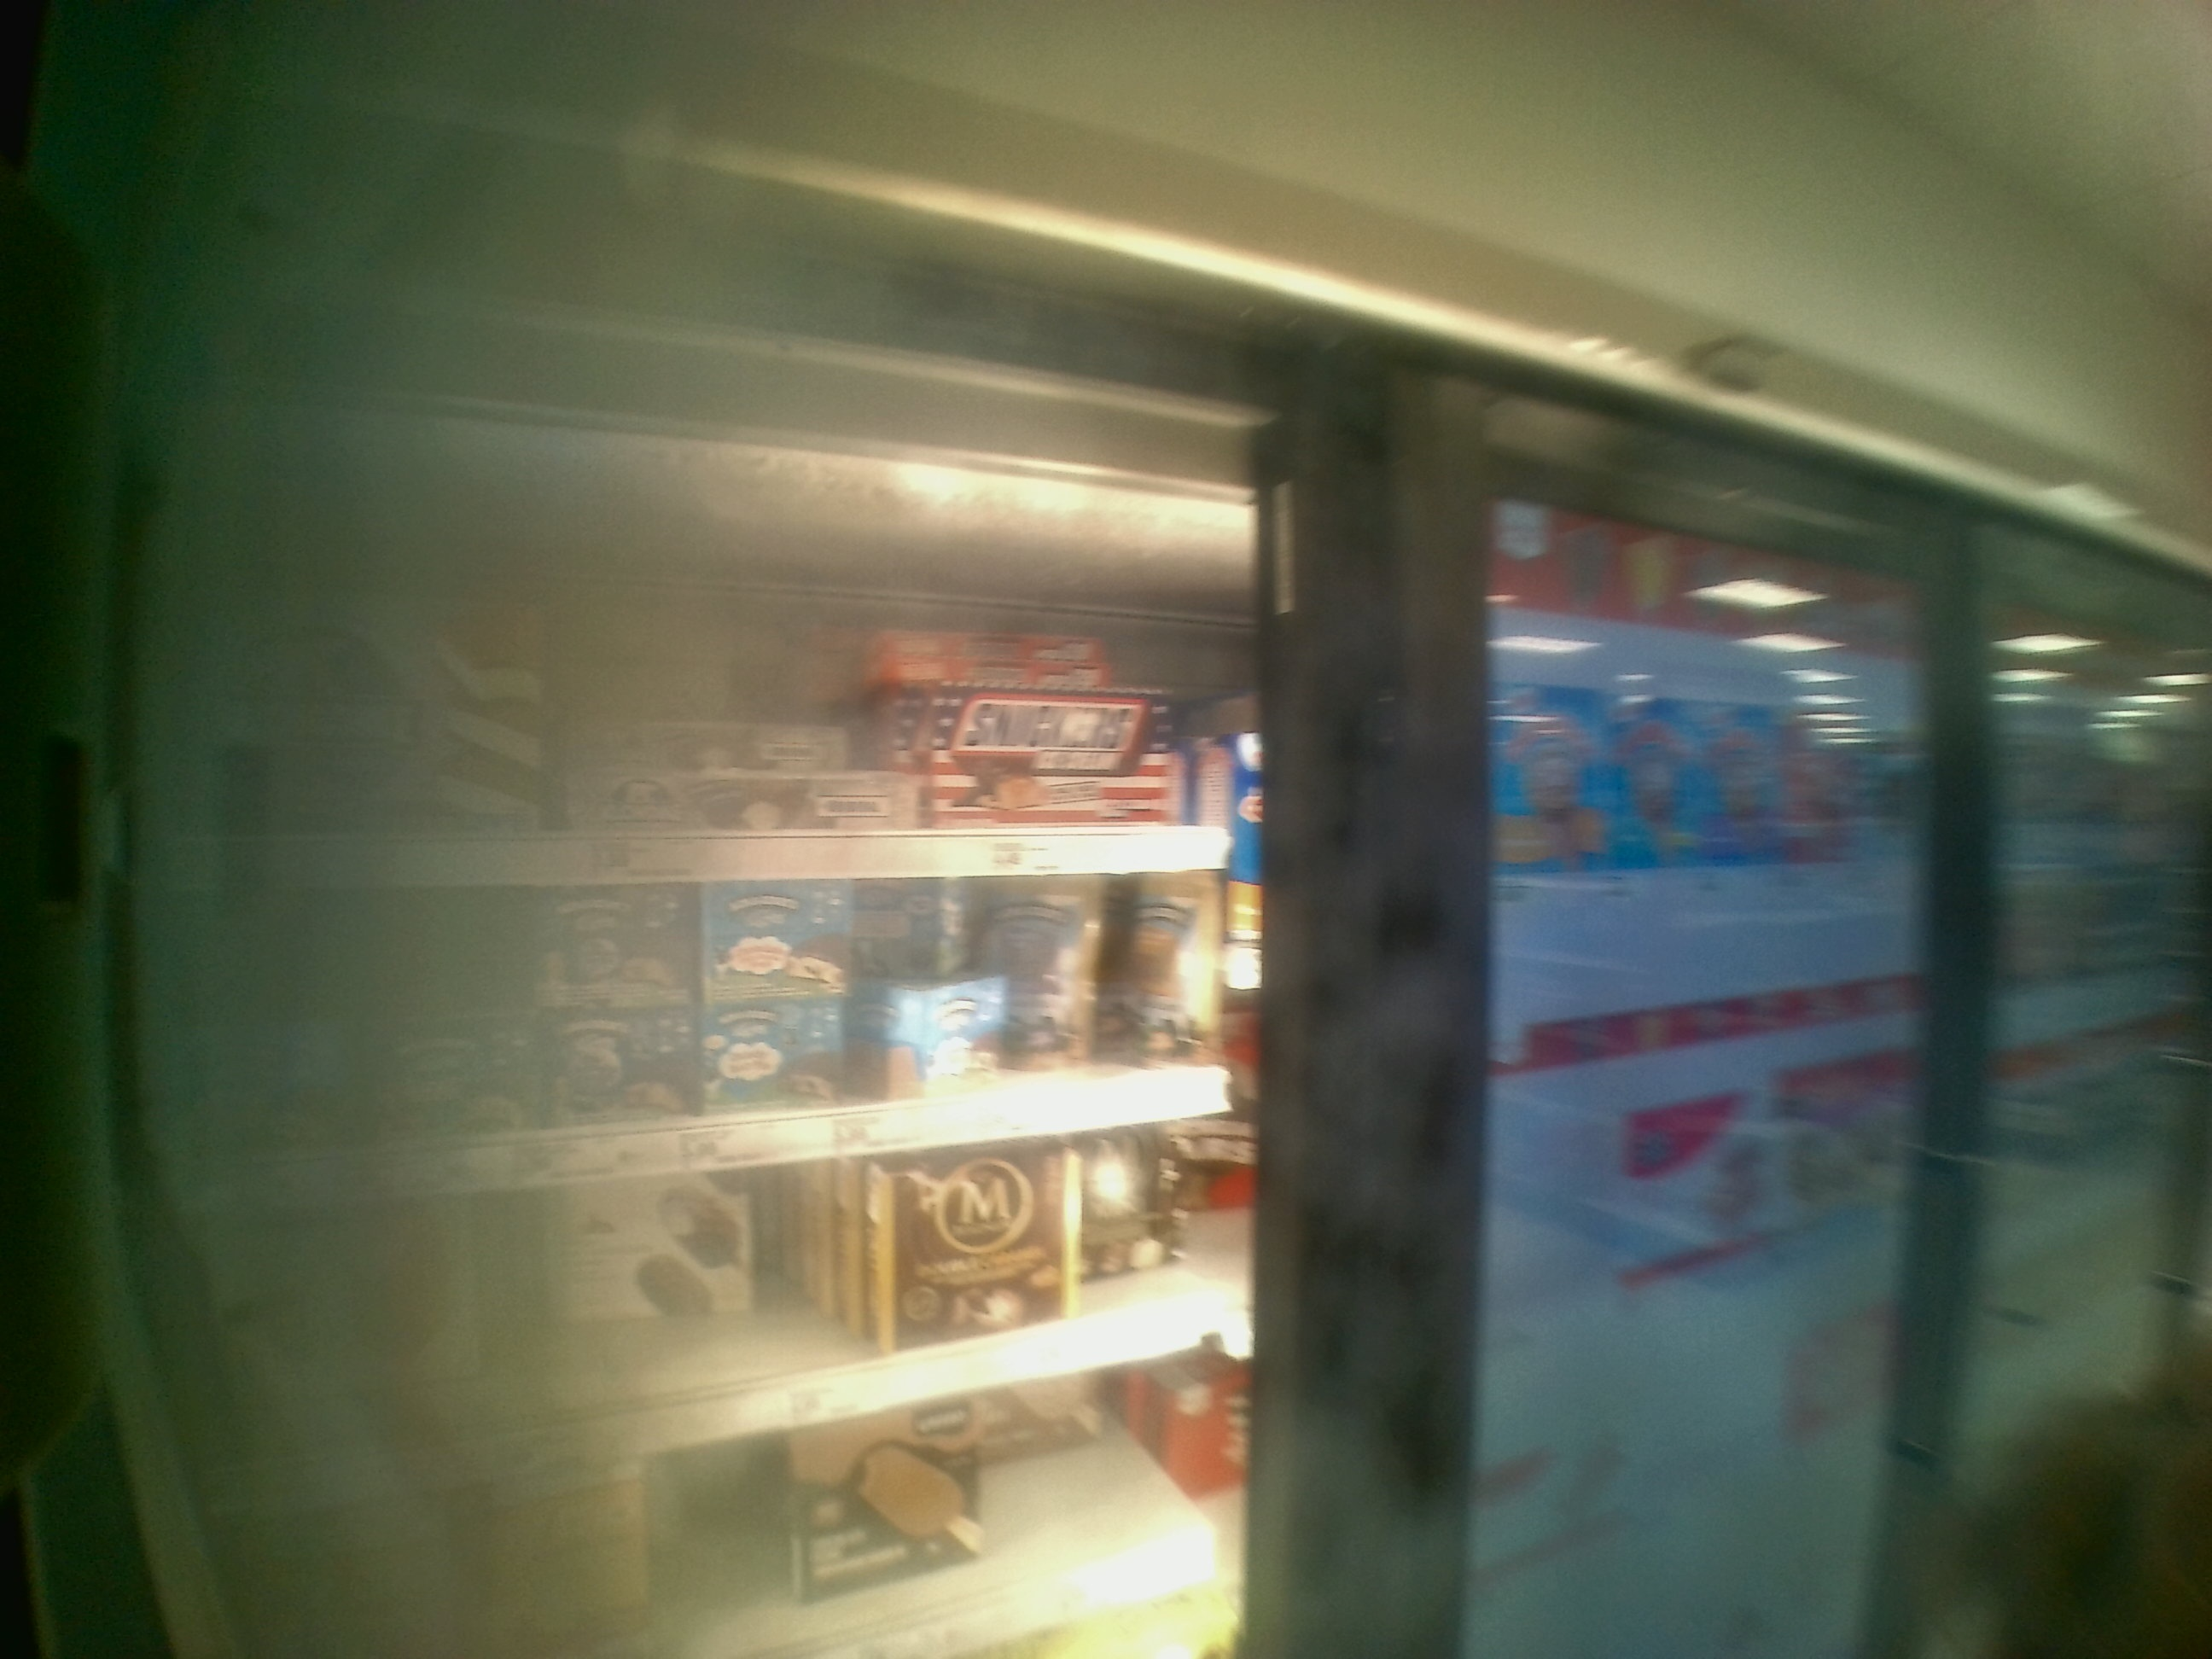shelf: (206, 542, 1252, 889), (211, 887, 1247, 1208)
